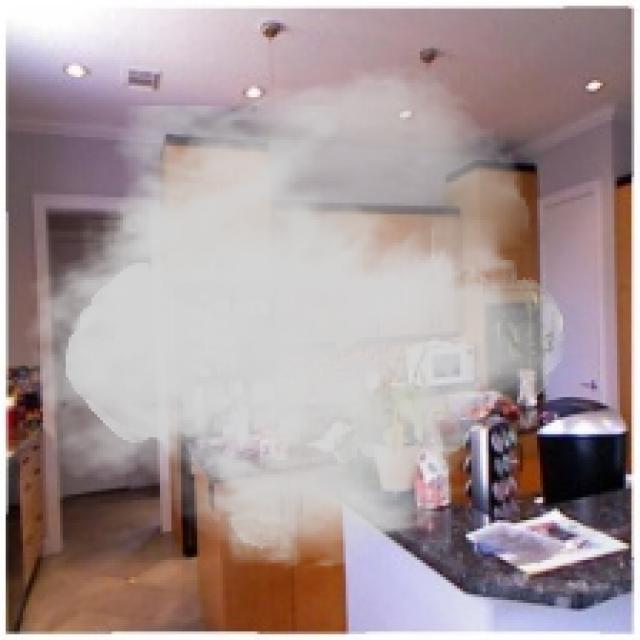Smoke: (8, 59, 566, 574)
